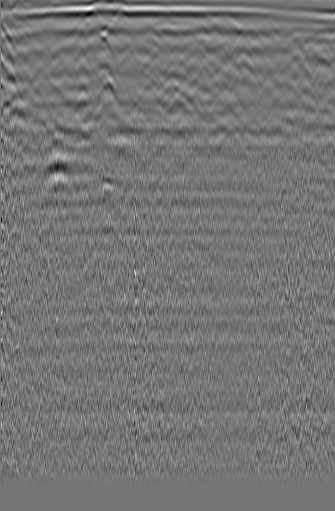가스: (94, 172, 124, 201)
상수: (13, 21, 43, 45)
오수: (279, 28, 313, 62)
우수: (137, 26, 165, 50)
